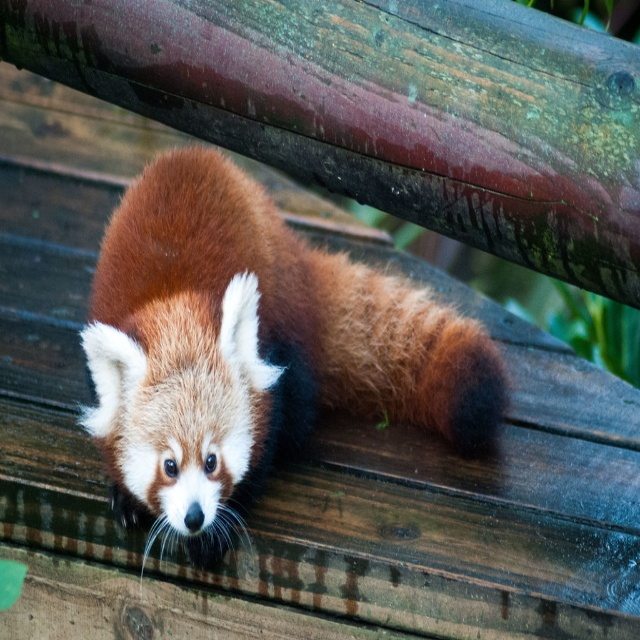Red panda: (75, 142, 511, 596)
